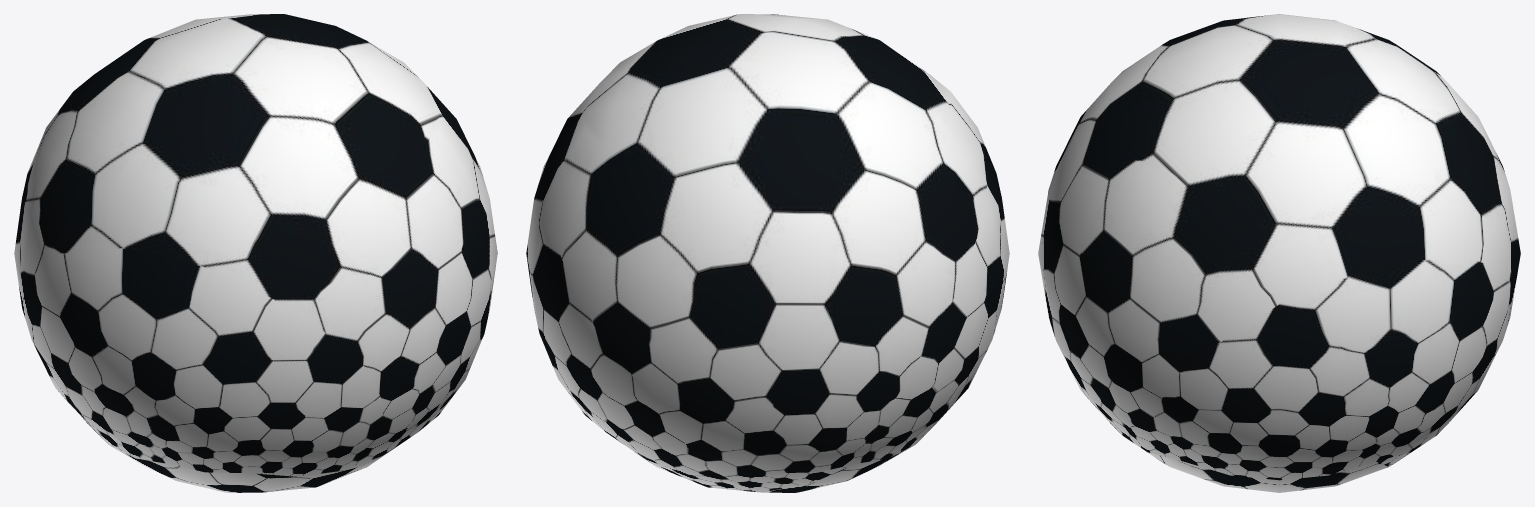
The model's file is futball.fbx.
3 renders of one model, left to right at view 1: azimuth 30°, elevation 25°; view 2: azimuth 150°, elevation 25°; view 3: azimuth 270°, elevation 25°, orthographic.
Visible parts, largest first — view 1: futbol; view 2: futbol; view 3: futbol.
Part boxes in pixels (x1,y1,x2,y2): futbol: (14,14,497,492); futbol: (526,14,1009,492); futbol: (1038,14,1520,492).
Bounding box in the file's own units: 41.51 × 41.51 × 41.51.
1 material, 1 textured.
